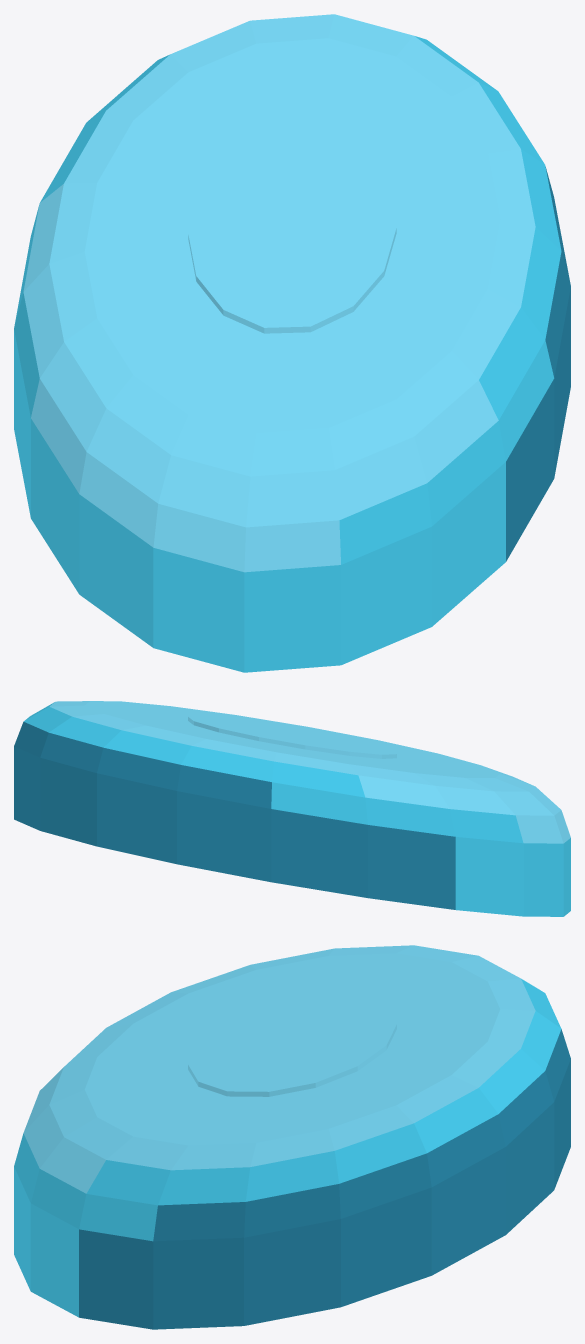
File: Plate_LatchPad.gltf
3 renders of one model, top to bottom at view 1: azimuth 30°, elevation 25°; view 2: azimuth 150°, elevation 25°; view 3: azimuth 270°, elevation 25°, orthographic. The views are drawn at different scales.
Visible parts, largest first — view 1: Plate_LatchPad_baked; view 2: Plate_LatchPad_baked; view 3: Plate_LatchPad_baked.
Boxes of the visible parts, box(x1,y1,x2,y2) form: Plate_LatchPad_baked: box(14, 14, 570, 672); Plate_LatchPad_baked: box(14, 701, 570, 916); Plate_LatchPad_baked: box(14, 945, 570, 1329).
Size of the model in its own units: 0.4264 by 0.2631 by 0.4.
